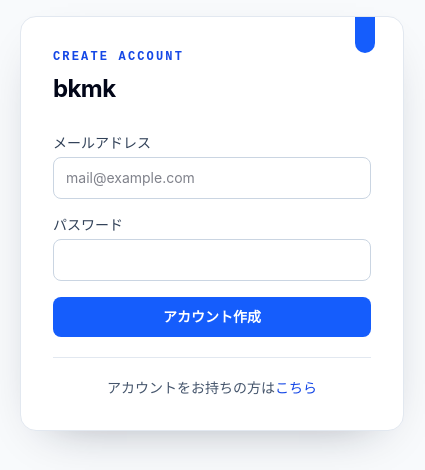
LoginPage › 登録後に配送成功を断定しない確認メール案内を表示する
This screenshot has width=425, height=470.
Step 1. Type "new@example.com" into the field labelled "メールアドレス" → coordinates (212, 178), box x1=53 y1=156 x2=371 y2=198
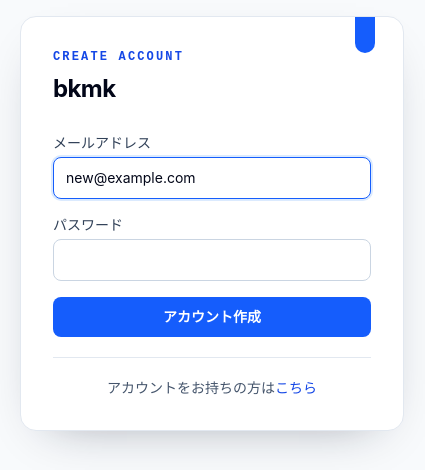
Step 2. Type "password1234" into the password field labelled "パスワード" → coordinates (212, 260), box x1=53 y1=238 x2=371 y2=280
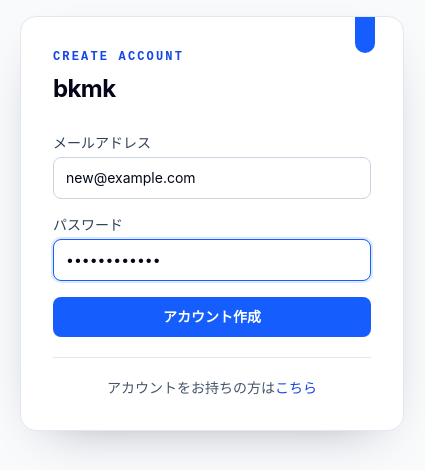
Step 3. Click the button "アカウント作成" → coordinates (212, 316), box x1=53 y1=296 x2=371 y2=336
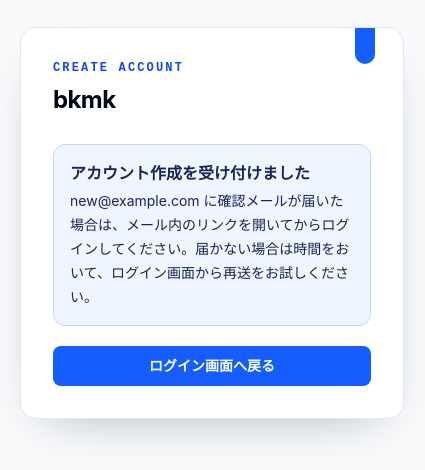
Now the text "アカウント作成を受け付けました" is shown, box x1=70 y1=163 x2=310 y2=183
Now the text "確認メールが届いた場合" is shown, box x1=70 y1=192 x2=350 y2=305
